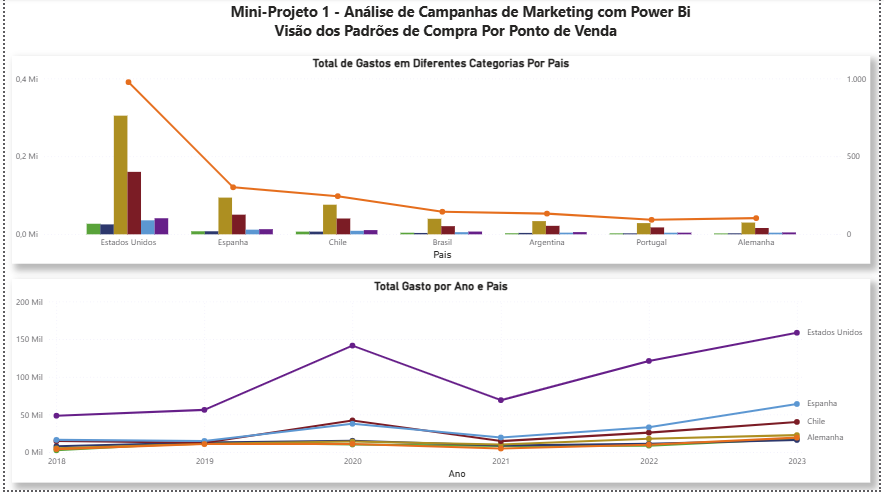

This screenshot's page, from the dashboard's own definition file:
{"tool":"powerbi","page":{"name":"Visão do Pontos de Venda","canvas":[1280,720],"ordinal":3},"visuals":[{"type":"textbox","box":[10.7,0,1269.3,85.5],"z":0},{"type":"lineClusteredColumnComboChart","title":"Total de Gastos em Diferentes Categorias Por Pais","fields":{"Category":["DadosMarketing.Pais"],"Y":["Sum(DadosMarketing.Gasto com Alimentos)","Sum(DadosMarketing.Gasto com Brinquedos)","Sum(DadosMarketing.Gasto com Eletronicos)","Sum(DadosMarketing.Gasto com Moveis)","Sum(DadosMarketing.Gasto com Utilidades)","Sum(DadosMarketing.Gasto com Vestuario)"],"Y2":["CountNonNull(DadosMarketing.ID)"]},"box":[10.7,85.5,1255.6,304],"z":1},{"type":"lineChart","title":"Total Gasto por Ano e Pais","fields":{"Y":["DadosMarketing.TotalGasto"],"Series":["DadosMarketing.Pais"],"Category":["DadosMarketing.Data Cadastro.Variation.Hierarquia de datas.Ano"]},"box":[10.7,410.9,1255.6,297.9],"z":2}]}

Visuals, with their boxes in screenshot pixels (x1, y1, x2, y2), scaled from the page's 1280x720 canvas onto the 884x494 screenshot:
textbox: box=[7, 0, 883, 59]
"Total de Gastos em Diferentes Categorias Por Pais" lineClusteredColumnComboChart: box=[7, 59, 875, 267]
"Total Gasto por Ano e Pais" lineChart: box=[7, 282, 875, 486]
